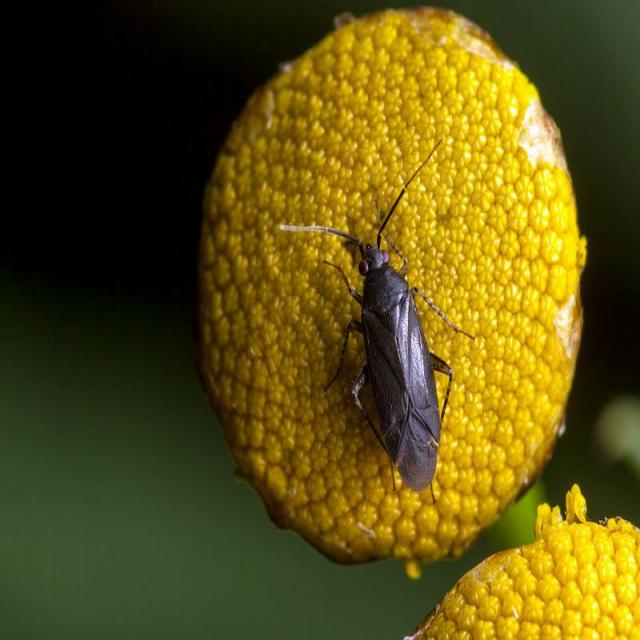Miridae-Adult-: (274, 134, 474, 515)
